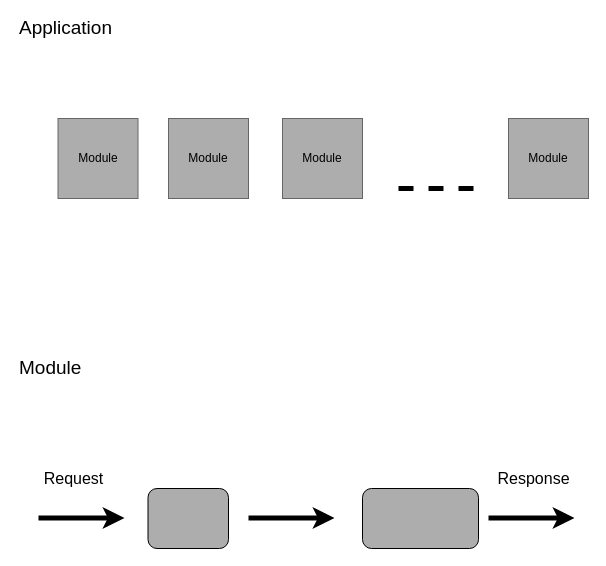
Some shapes in this 606 by 566 pixel diagram are drawn without their labels. Each missing label, with the centre of its shape:
"App Logic" belongs at (x=420, y=518).
"Routing" belongs at (x=187, y=518).
